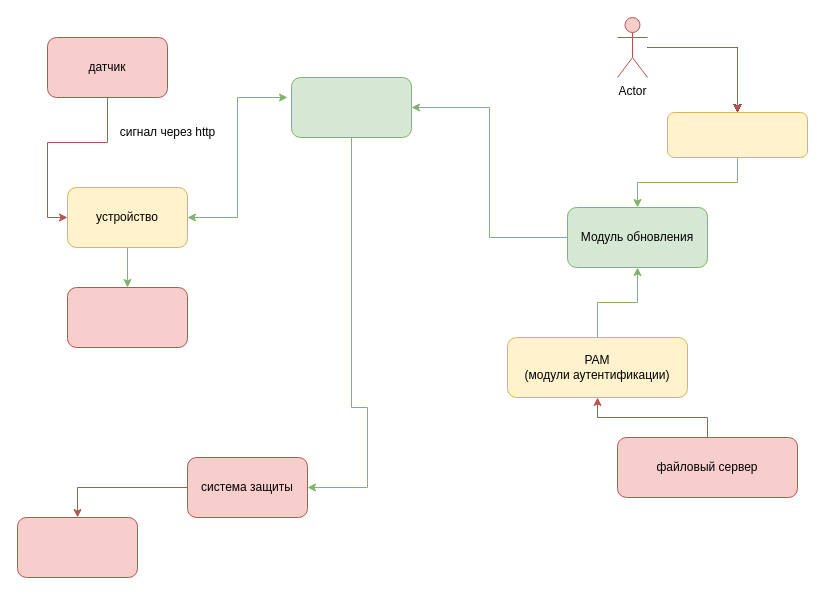
This 825x595 diagram has some shape labels left out. Here are the shapes that lost their labels. From the top down, the box of each, then its label:
(290, 76, 412, 138): scada
(666, 112, 808, 158): API (модуль авторизации)
(66, 286, 188, 348): хранилище
(16, 516, 138, 578): СУЗ
